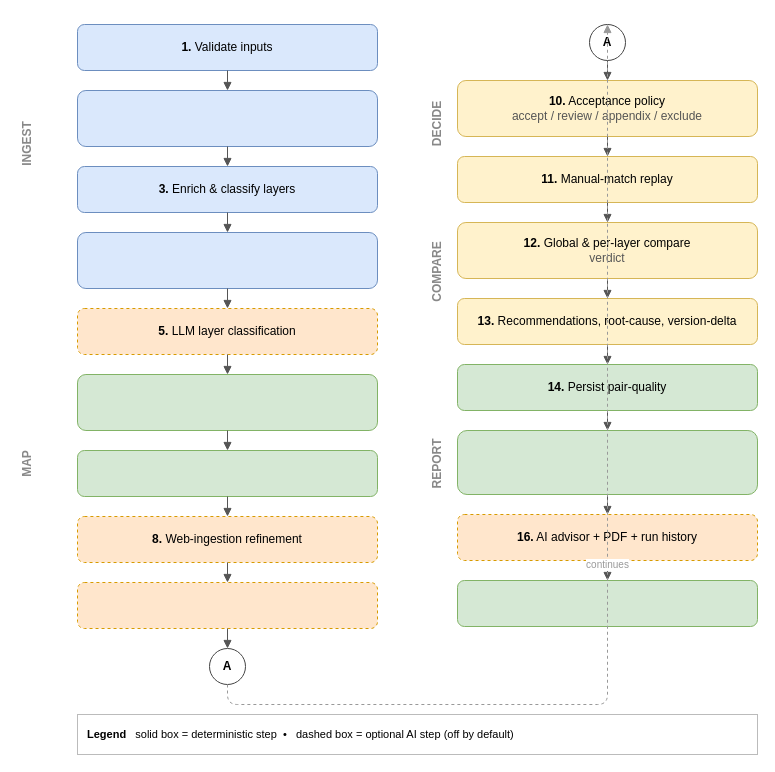
The diagram is 775 pixels wide and 772 high, and some of its shapes have lost their labels. The box of each missing label's shape, as (x1, y1, x2, y2) in pixels:
15. Compose exports Excel, CSV/JSON, review queue, diagnostics, GUI payload: (456, 430, 758, 494)
17. Done: (456, 580, 758, 626)
2. Parse source & target .map metadata, footprint, modules, functions: (76, 90, 378, 146)
4. Prepare knowledge vendor registry, aliases: (76, 232, 378, 288)
6. Build composite signal evidence + knowledge + LLM: (76, 374, 378, 430)
7. Deterministic module & function mapping: (76, 450, 378, 496)
9. LLM confident pass: (76, 582, 378, 628)
